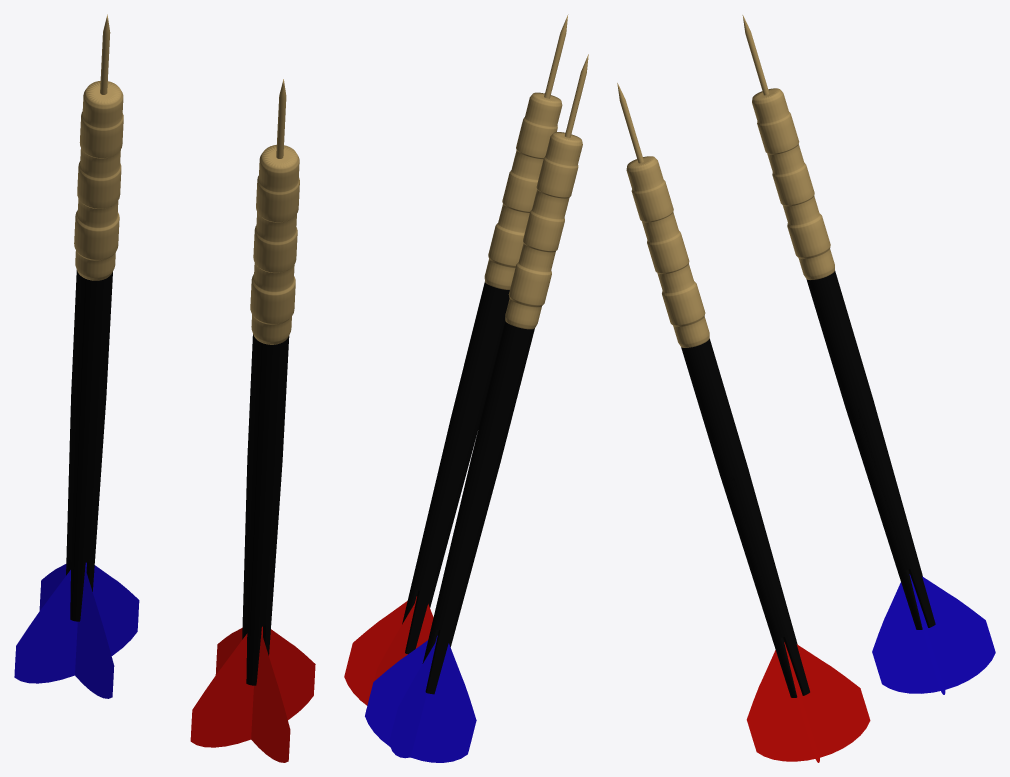
3 renders of one model, left to right at view 1: azimuth 30°, elevation 25°; view 2: azimuth 150°, elevation 25°; view 3: azimuth 270°, elevation 25°, orthographic. The views are drawn at different scales.
Visible parts, largest first — view 1: Cylinder.005_9, Cylinder.002_4, Cylinder.004_8, Cylinder.001_3, Circle.002_10, Circle_5, Circle.001_6, Circle.003_11, Cylinder_2, Cylinder.003_7; view 2: Cylinder.005_9, Cylinder.002_4, Circle.002_10, Cylinder.004_8, Cylinder.001_3, Circle_5, Circle.003_11, Circle.001_6, Cylinder.003_7, Cylinder_2; view 3: Cylinder.005_9, Cylinder.002_4, Circle.001_6, Circle.003_11, Cylinder.004_8, Cylinder.001_3.
Part boxes in pixels (box(x1,y1,x2,y2)): Cylinder.005_9: box(66, 270, 112, 621); Cylinder.002_4: box(242, 334, 289, 685); Cylinder.004_8: box(74, 81, 123, 280); Cylinder.001_3: box(250, 145, 299, 344); Circle.002_10: box(14, 562, 139, 683); Circle_5: box(190, 626, 315, 747); Circle.001_6: box(215, 627, 290, 762); Circle.003_11: box(39, 564, 114, 698); Cylinder_2: box(276, 79, 286, 158); Cylinder.003_7: box(100, 14, 110, 94); Cylinder.005_9: box(422, 321, 534, 694); Cylinder.002_4: box(402, 282, 509, 654); Circle.002_10: box(365, 635, 476, 762); Cylinder.004_8: box(505, 132, 582, 329); Cylinder.001_3: box(484, 92, 562, 289); Circle_5: box(344, 596, 433, 705); Circle.003_11: box(389, 641, 436, 758); Circle.001_6: box(374, 602, 415, 681); Cylinder.003_7: box(565, 54, 588, 137); Cylinder_2: box(544, 14, 568, 98); Cylinder.005_9: box(806, 271, 935, 629); Cylinder.002_4: box(681, 338, 809, 697); Circle.001_6: box(746, 642, 870, 761); Circle.003_11: box(872, 574, 995, 693); Cylinder.004_8: box(752, 88, 834, 279); Cylinder.001_3: box(626, 156, 709, 347).
Bounding box in the file's own units: 6.42 × 19.5 × 9.98.
